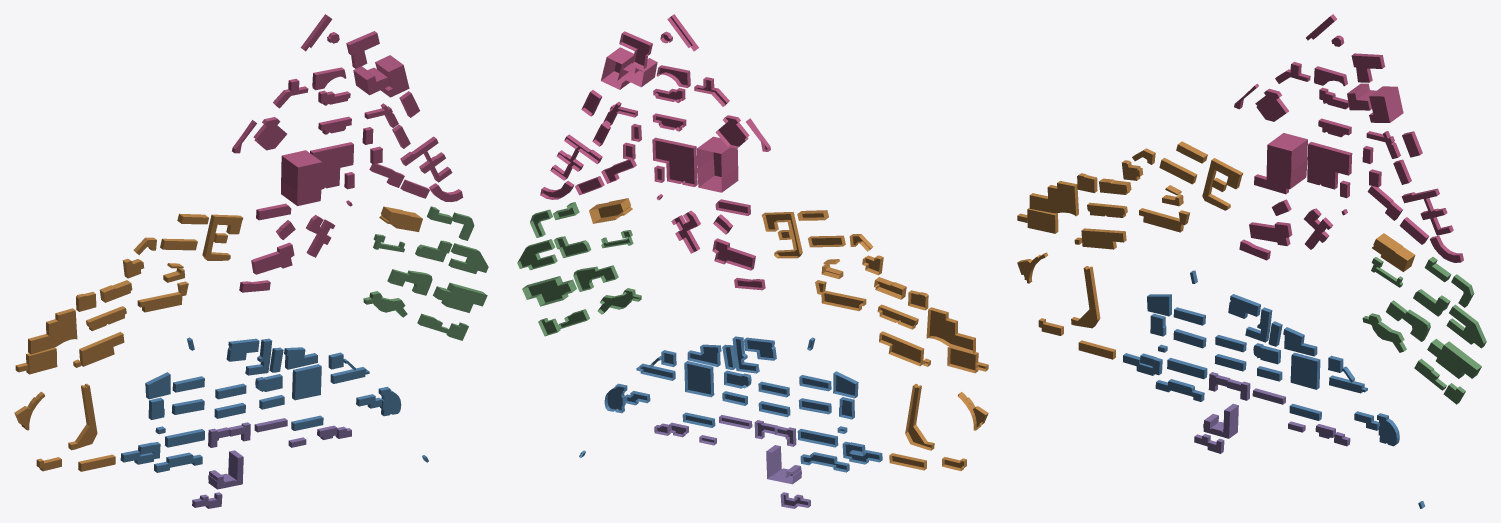
File: buildings.obj
The picture shows the model from 3 angles, left to right: view 1: azimuth 30°, elevation 25°; view 2: azimuth 150°, elevation 25°; view 3: azimuth 330°, elevation 25°; orthographic projection.
Visible parts, largest first — view 1: roof1, roof2, roof4, zone1, roof3, zone2, zone4, roof5, zone3, zone5; view 2: zone1, zone2, zone4, roof1, roof2, roof4, roof3, zone3, zone5, roof5; view 3: roof1, roof2, roof4, zone1, roof3, zone2, zone4, zone3, roof5, zone5.
Boxes of the visible parts, x1,y1,x2,y2 form: roof1: (235,16,463,292); roof2: (17,212,422,471); roof4: (123,339,428,472); zone1: (232,14,461,292); roof3: (366,209,488,340); zone2: (14,206,422,471); zone4: (120,337,426,472); roof5: (195,420,351,508); zone3: (363,206,486,336); zone5: (192,418,351,508); zone1: (540,14,770,290); zone2: (589,198,988,470); zone4: (579,336,882,472); roof1: (543,16,767,287); roof2: (598,204,985,468); roof4: (607,339,879,469); roof3: (520,207,638,333); zone3: (517,202,641,336); zone5: (654,415,810,508); roof5: (657,417,807,506); roof1: (1234,16,1460,262); roof2: (1017,144,1407,359); roof4: (1123,273,1422,508); zone1: (1239,14,1463,262); roof3: (1362,258,1483,404); zone2: (1018,141,1415,359); zone4: (1123,270,1425,508); zone3: (1363,257,1486,403); roof5: (1194,374,1347,453); zone5: (1194,372,1350,453).
Bounding box in the file's own units: 1114 × 1059 × 80.19.
